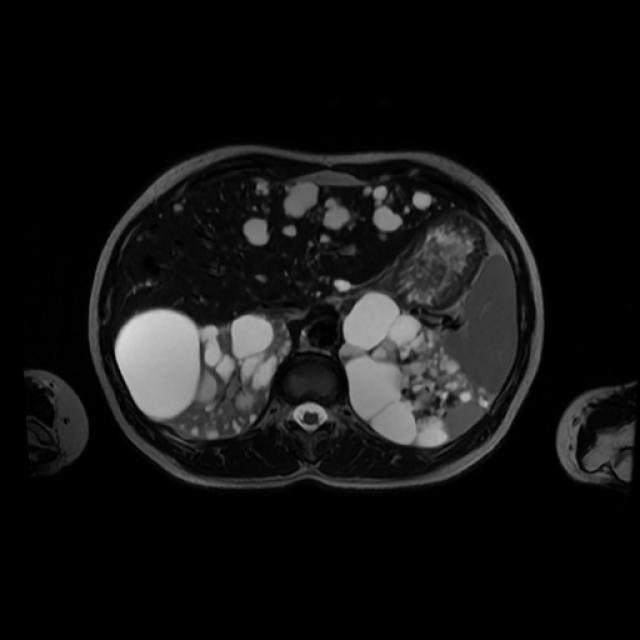sag: (114, 306, 290, 436)
sol: (340, 292, 489, 444)
